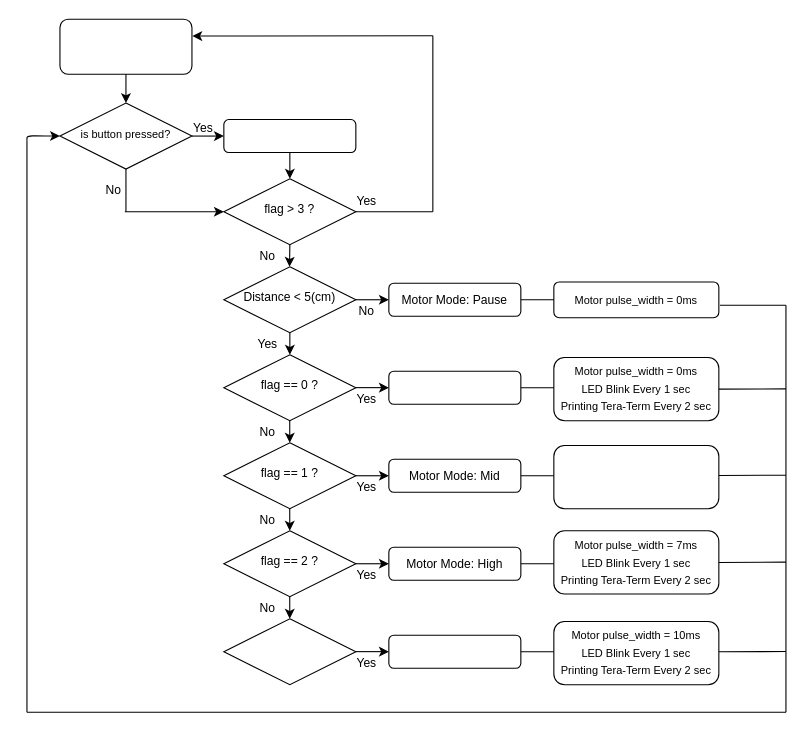
Some shapes in this 806 by 733 pixel diagram are drawn without their labels. Each missing label, with the centre of its shape:
"flag == 3 ?" belongs at (289,651).
"flag++" belongs at (289,135).
"Initialize flag=0" belongs at (125,46).
"Motor Mode: OFF" belongs at (454,387).
"Motor Mode: VHigh" belongs at (454,651).
"Motor pulse_width = 5ms LED Blink Every 1 sec Printing Tera-Term Every 2 sec" belongs at (636,476).
